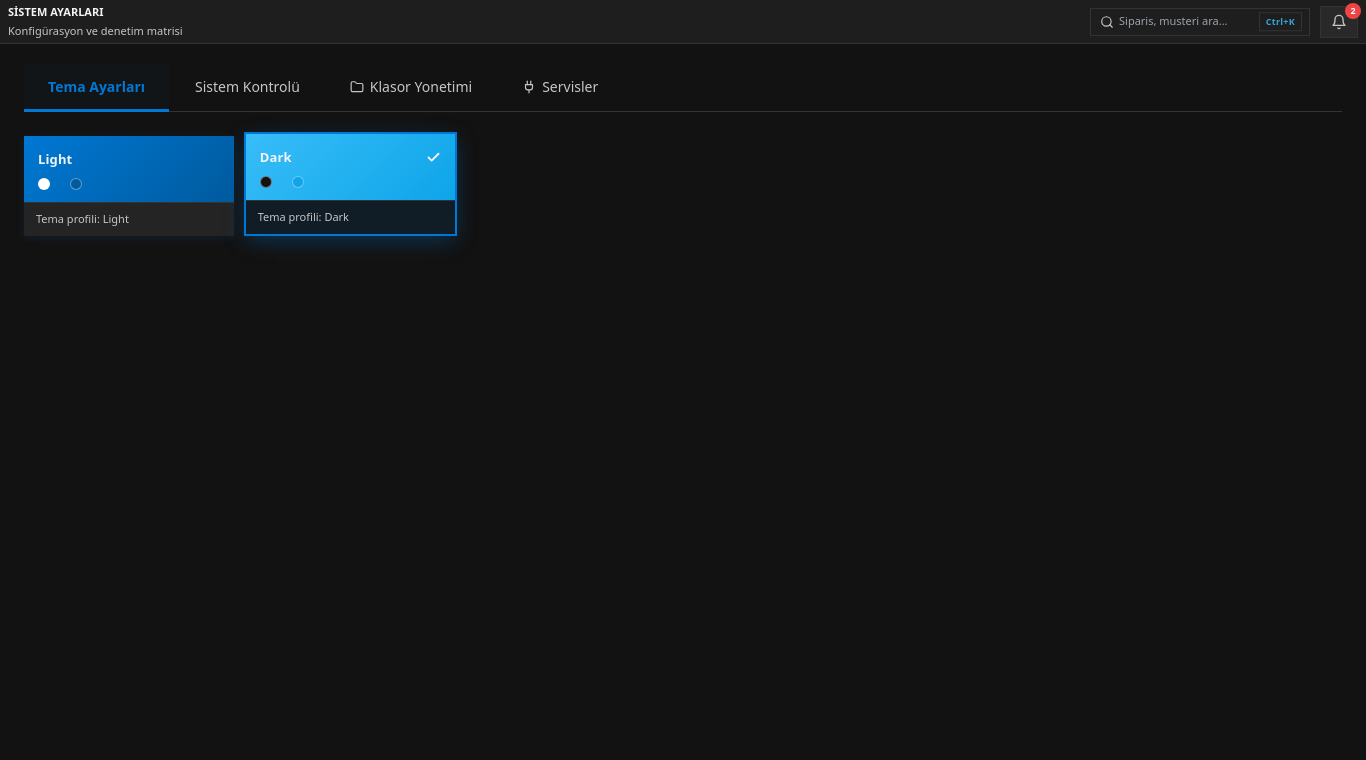
Test case: ConfigPage › sistem kontrolü sekmesinde geri al aksiyonu draft degisiklikleri temizler
Click the button "Sistem Kontrolü" at {"x": 247, "y": 88}, box [171, 64, 324, 112]
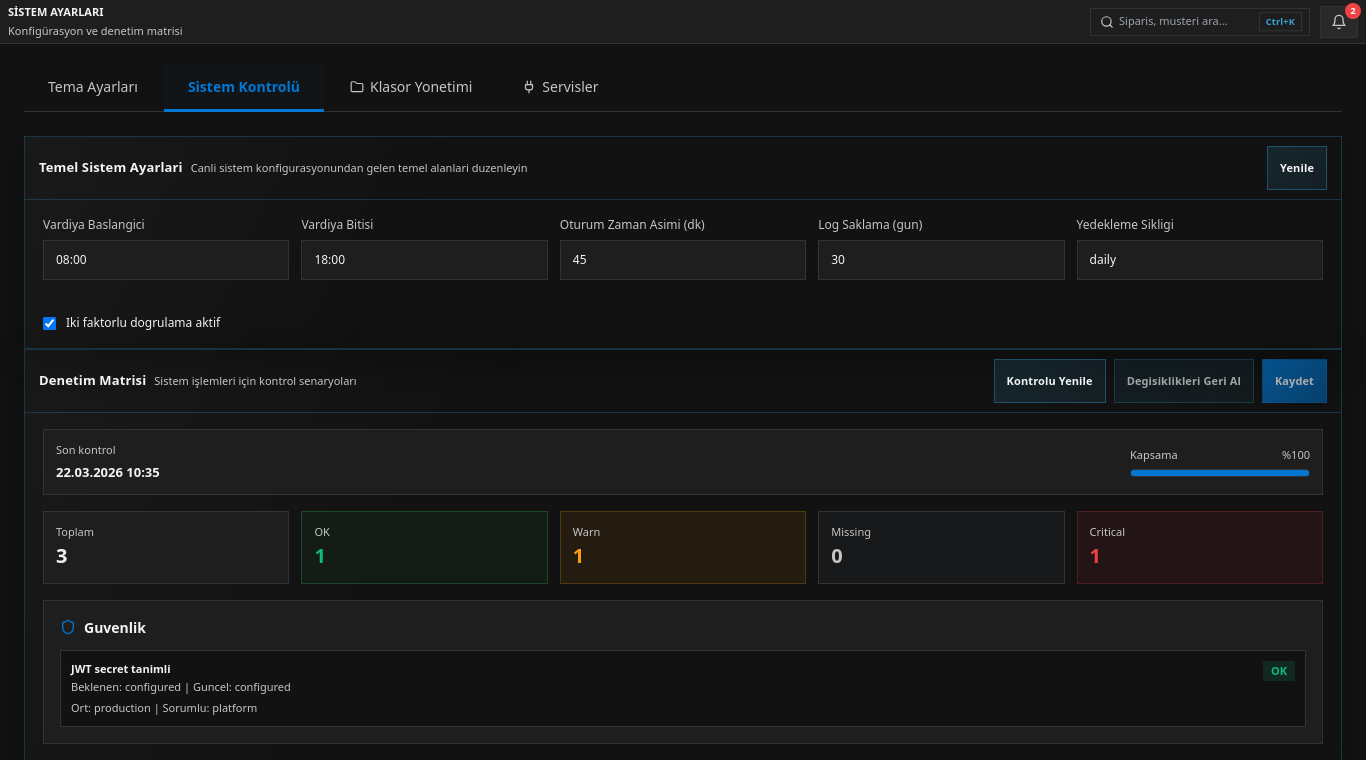
Replace the text in the field showing "08:00" with "07:15" at {"x": 166, "y": 260}, box [43, 240, 289, 280]
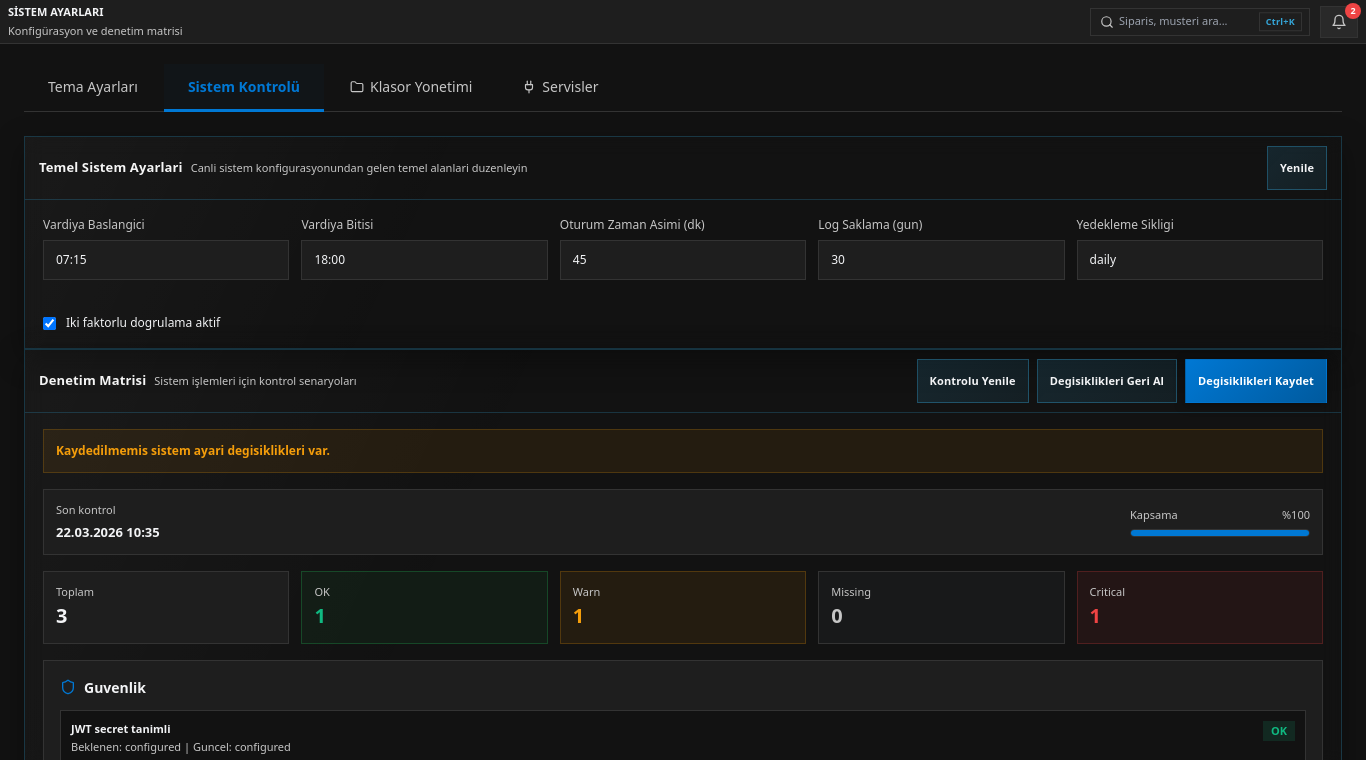
Check: the text "Kaydedilmemis sistem ayari degisiklikleri var." is shown, box [43, 429, 1323, 473]
Click the button "Degisiklikleri Geri Al" at {"x": 1107, "y": 381}, box [1037, 359, 1177, 403]
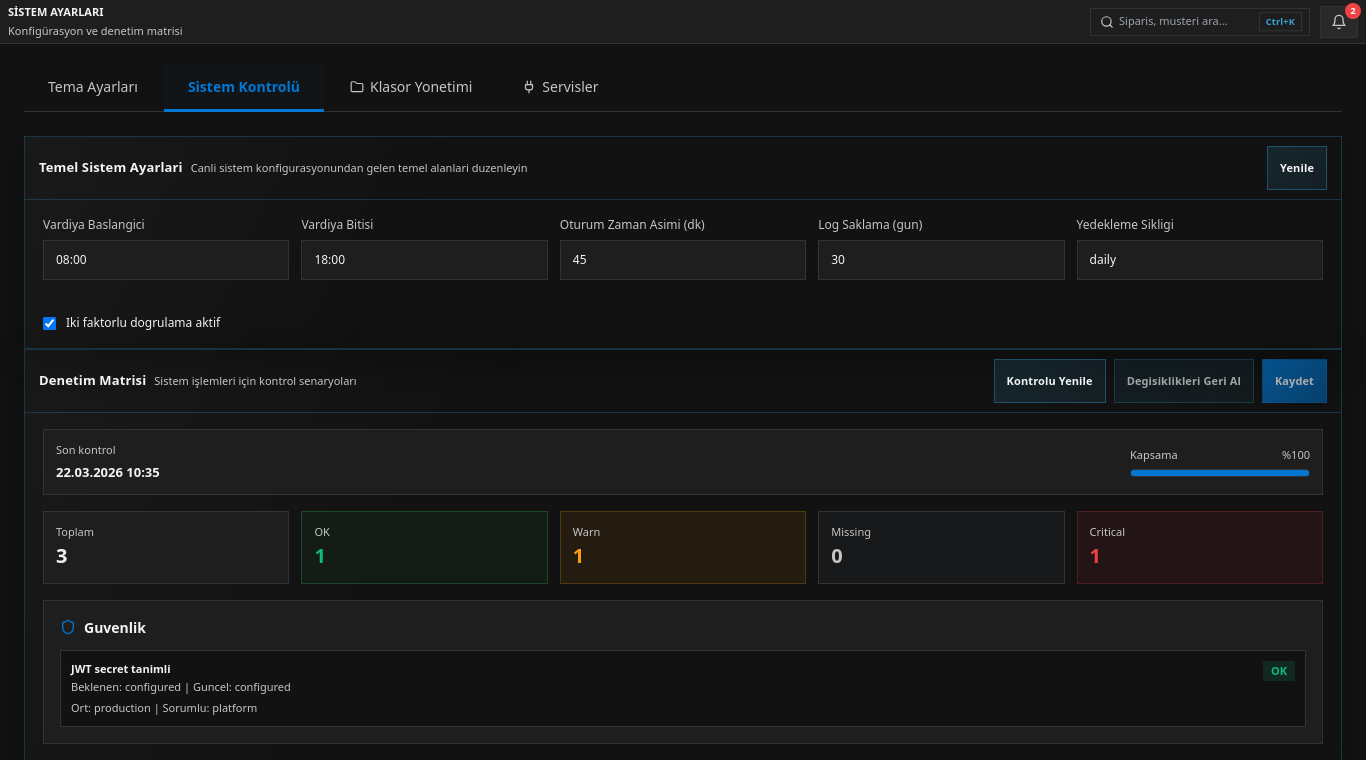
Check: the field showing "08:00" is shown, box [43, 240, 289, 280]
Check: the text "Kaydedilmemis sistem ayari degisiklikleri var." is gone
